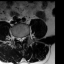CCS_stenosis: (20, 34, 22, 44)
LFS_normal: (24, 33, 26, 41)
LLS_normal: (22, 34, 24, 42)
RFS_normal: (15, 34, 17, 42)
RLS_normal: (17, 34, 20, 42)
